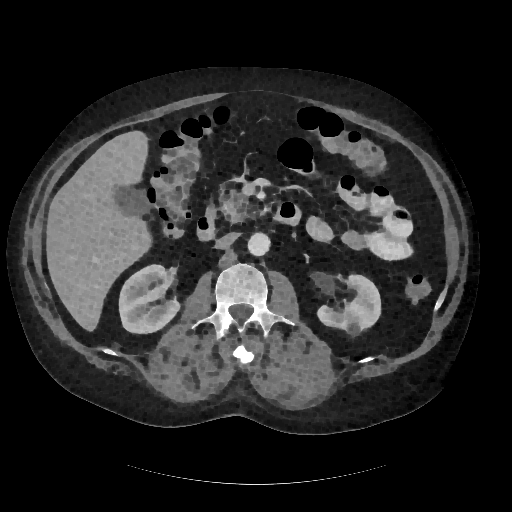Lesion: (342, 318, 362, 335)
